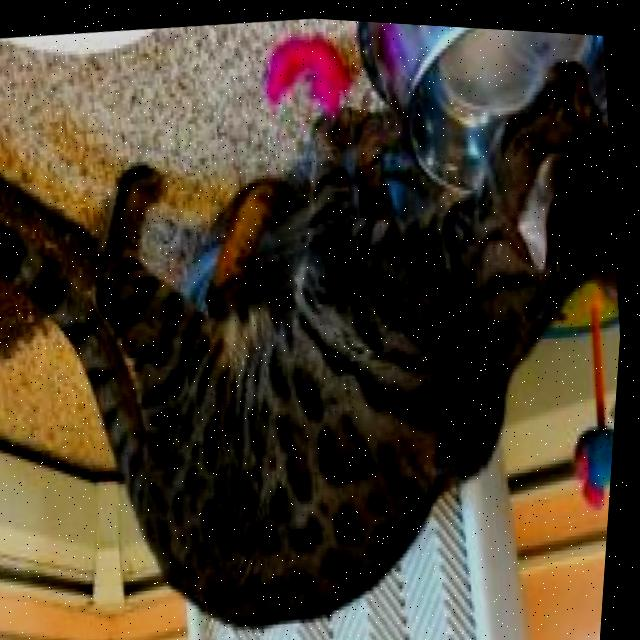Bengal: (0, 19, 639, 640)
